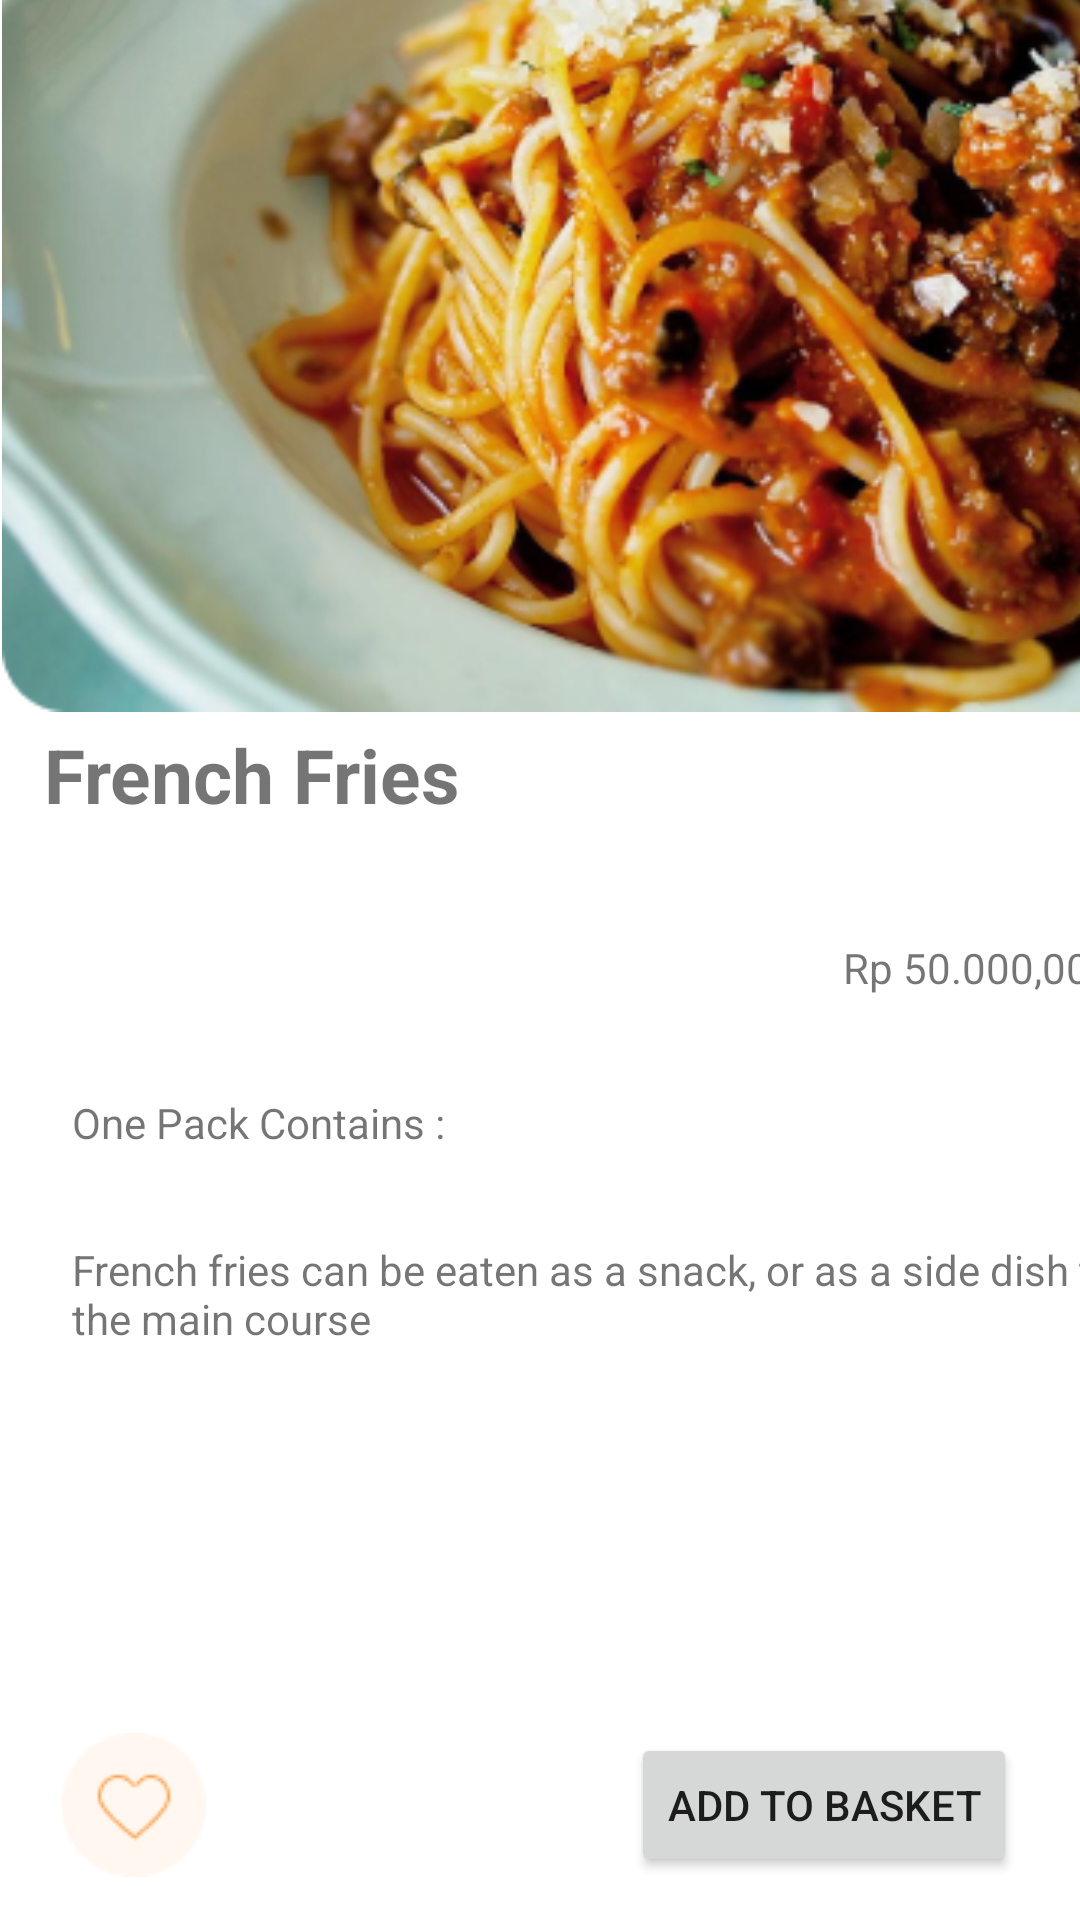

Screen size 1080w x 1920h. Icon name, then its center in pixels as (x,y):
love: (134,1805)
